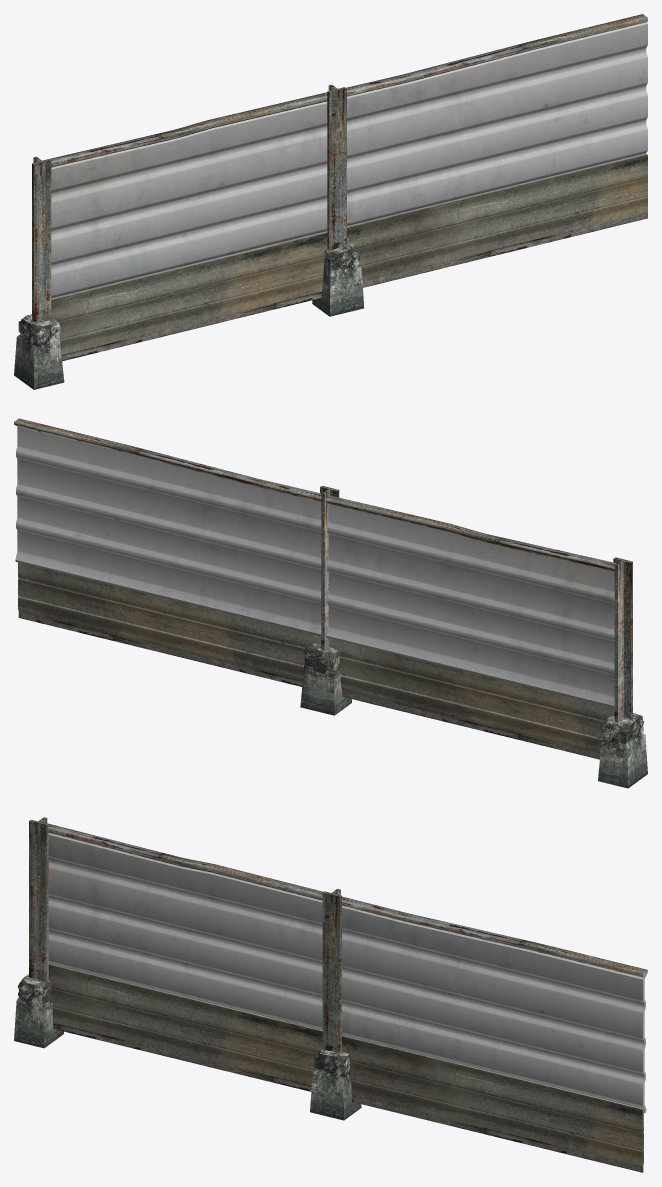
Rendered from solid_metal_fences_120_400_a.fbx.
The picture shows the model from 3 angles, top to bottom: view 1: azimuth 30°, elevation 25°; view 2: azimuth 150°, elevation 25°; view 3: azimuth 330°, elevation 25°; orthographic projection.
Parts seen in each view (by area): view 1: solid_metal_fences; view 2: solid_metal_fences; view 3: solid_metal_fences.
Part boxes in pixels (x1,y1,x2,y2): solid_metal_fences: (14,14,647,389); solid_metal_fences: (14,418,647,788); solid_metal_fences: (14,817,647,1172).
Size of the model in its own units: 4.11 by 1.37 by 0.2269.
3 materials, 3 textured.
